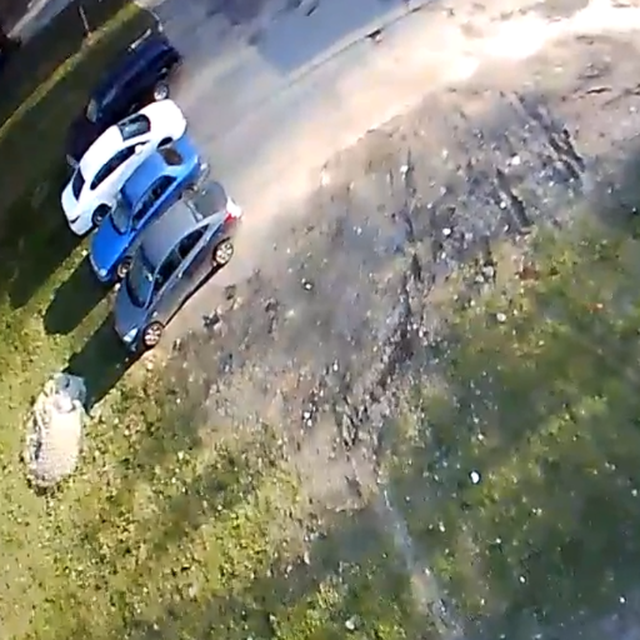car: (113, 180, 243, 351), (59, 99, 186, 235), (89, 136, 203, 282), (62, 34, 182, 170)
